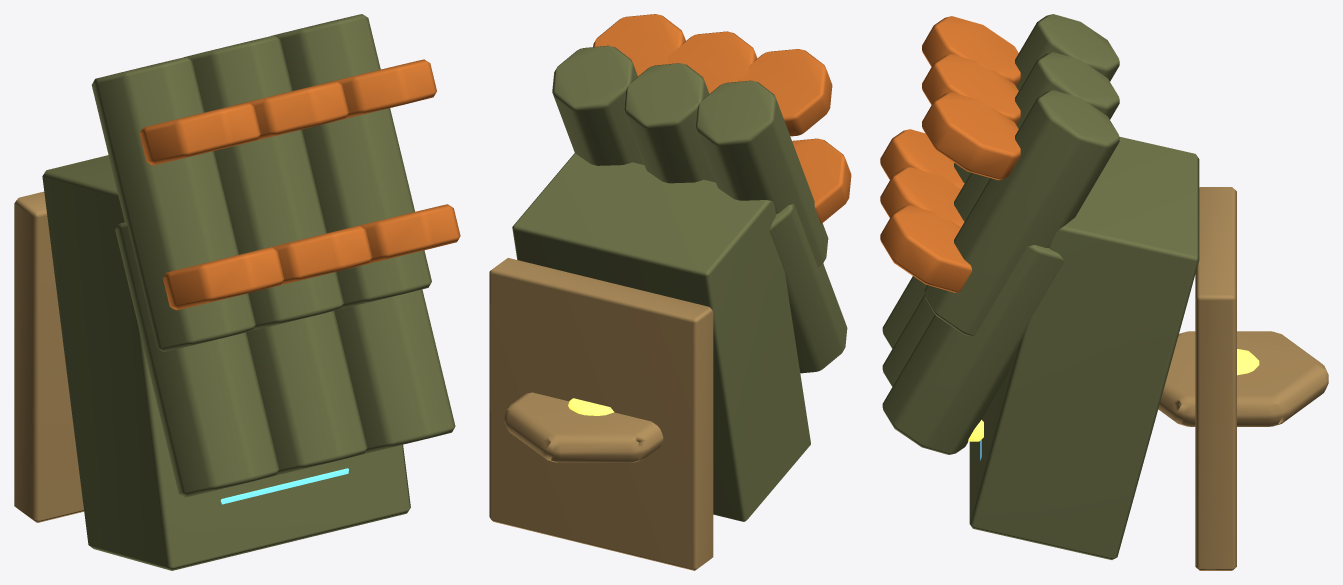
The model's file is quivergear_payload_rack.glb.
3 renders of one model, left to right at view 1: azimuth 30°, elevation 25°; view 2: azimuth 150°, elevation 25°; view 3: azimuth 270°, elevation 25°, orthographic. The views are drawn at different scales.
Visible parts, largest first — view 1: quivergear_payload_rack; view 2: quivergear_payload_rack; view 3: quivergear_payload_rack.
Boxes of the visible parts, box(x1,y1,x2,y2) form: quivergear_payload_rack: box(14, 14, 460, 570); quivergear_payload_rack: box(489, 14, 851, 570); quivergear_payload_rack: box(880, 14, 1328, 570).
Size of the model in its own units: 0.4145 by 0.7284 by 0.6469.
1 material, 1 textured.
